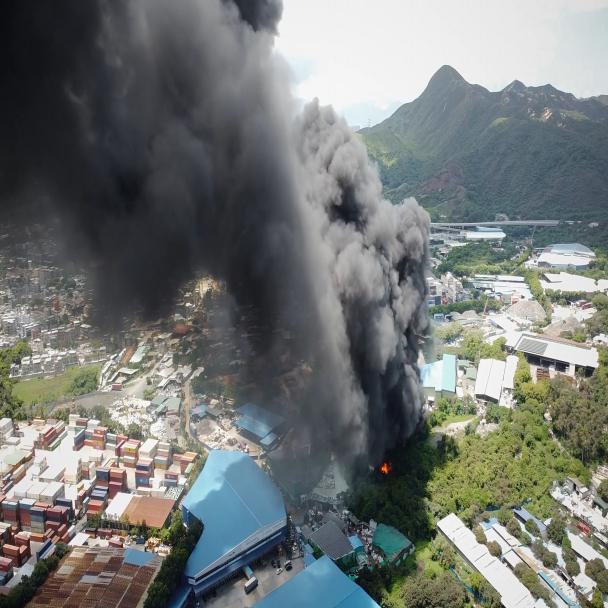Fire: (306, 414, 468, 508)
smoke: (0, 9, 542, 403)
